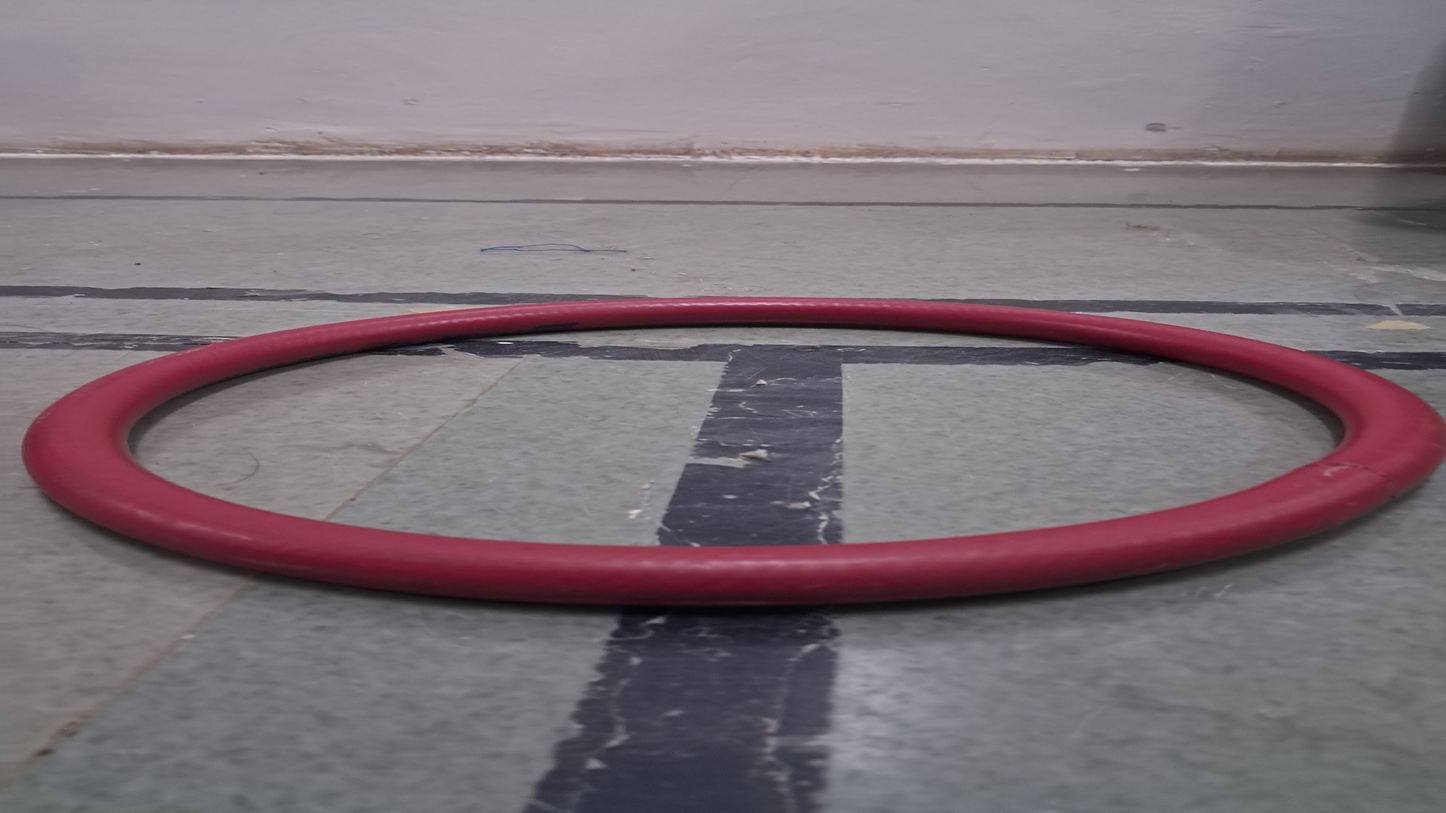Red ring: (22, 300, 1446, 593)
